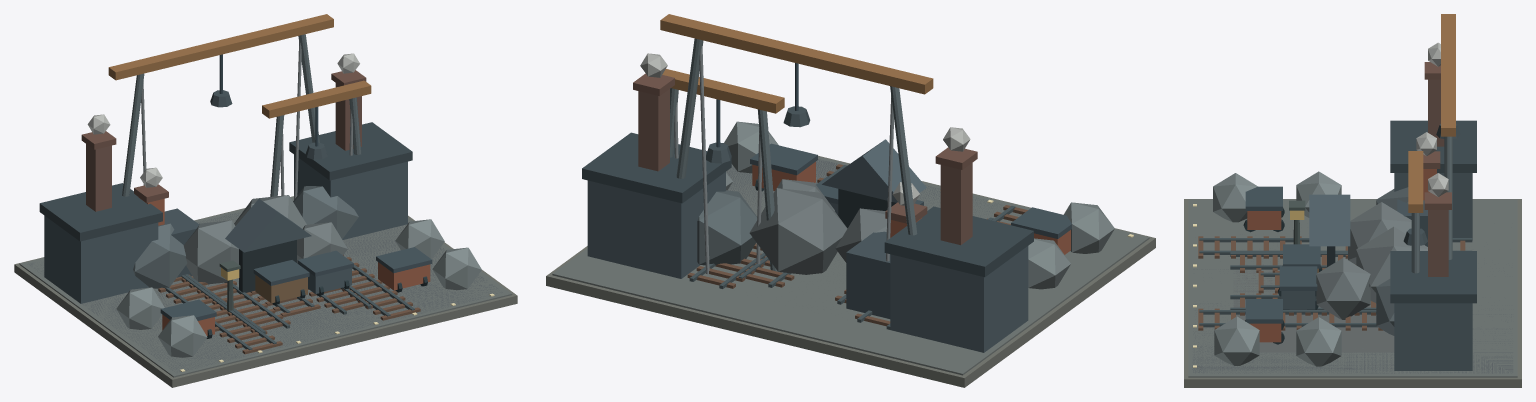
The model's file is mine-lv3.obj.
3 views of the same model, side by side, from view 1: azimuth 30°, elevation 25°; view 2: azimuth 150°, elevation 25°; view 3: azimuth 270°, elevation 25° (orthographic). The views are drawn at different scales.
Parts seen in each view (by area): view 1: mine_1, mine_5, mine_24, mine_25, mine_0, mine_27, mine_17, mine_7, mine_3, mine_14, mine_9, mine_15 (+10 smaller); view 2: mine_5, mine_1, mine_25, mine_0, mine_3, mine_17, mine_27, mine_26, mine_15, mine_14, mine_20, mine_9 (+9 smaller); view 3: mine_1, mine_5, mine_25, mine_3, mine_27, mine_0, mine_9, mine_13, mine_24, mine_17, mine_6, mine_26 (+10 smaller).
Part boxes in pixels (x1,y1,x2,y2): mine_1: (19, 196, 512, 377); mine_5: (44, 154, 407, 303); mine_24: (27, 198, 502, 372); mine_25: (39, 122, 412, 241); mine_0: (14, 196, 517, 387); mine_27: (116, 219, 481, 357); mine_17: (108, 14, 371, 118); mine_7: (158, 255, 420, 354); mine_3: (183, 195, 347, 284); mine_14: (133, 186, 358, 288); mine_9: (160, 247, 432, 320); mine_15: (122, 34, 361, 196); mine_5: (587, 139, 1028, 352); mine_1: (552, 156, 1149, 375); mine_25: (582, 132, 1033, 277); mine_0: (546, 155, 1155, 387); mine_3: (749, 179, 886, 274); mine_17: (660, 14, 933, 113); mine_27: (724, 121, 1114, 289); mine_26: (638, 89, 972, 245); mine_15: (670, 38, 917, 271); mine_14: (697, 190, 757, 265); mine_20: (846, 231, 890, 318); mine_9: (750, 143, 1071, 238); mine_1: (1188, 199, 1517, 377); mine_5: (1281, 173, 1472, 370); mine_25: (1390, 120, 1476, 303); mine_3: (1316, 202, 1427, 319); mine_27: (1213, 171, 1341, 366); mine_0: (1184, 199, 1521, 387); mine_9: (1245, 186, 1320, 323); mine_13: (1233, 227, 1394, 352); mine_24: (1192, 256, 1513, 373); mine_17: (1408, 14, 1455, 212); mine_6: (1199, 238, 1472, 327); mine_26: (1428, 79, 1448, 276).
Size of the model in its own units: 6.25 by 3.67 by 4.95.
